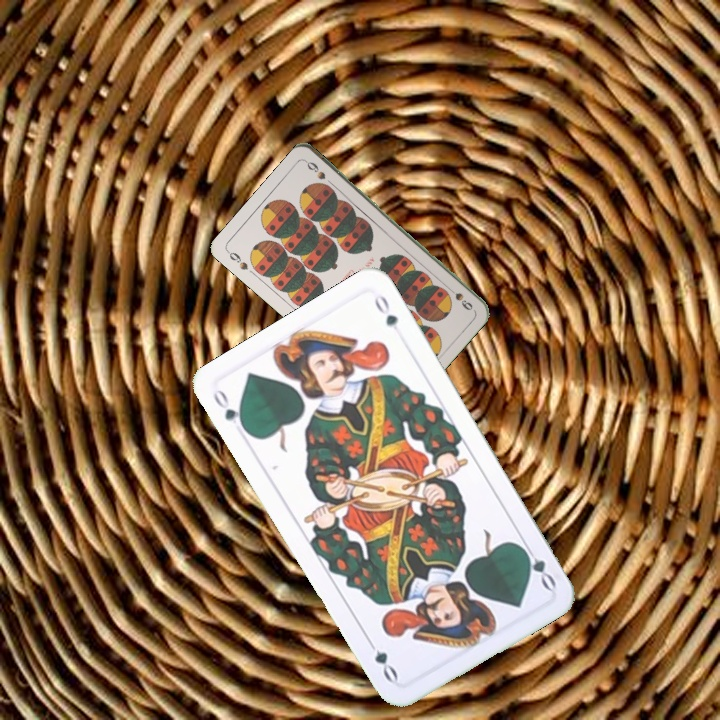GO: (515, 538, 559, 593), (208, 385, 252, 436)
S9: (443, 282, 475, 313), (223, 247, 251, 273)
